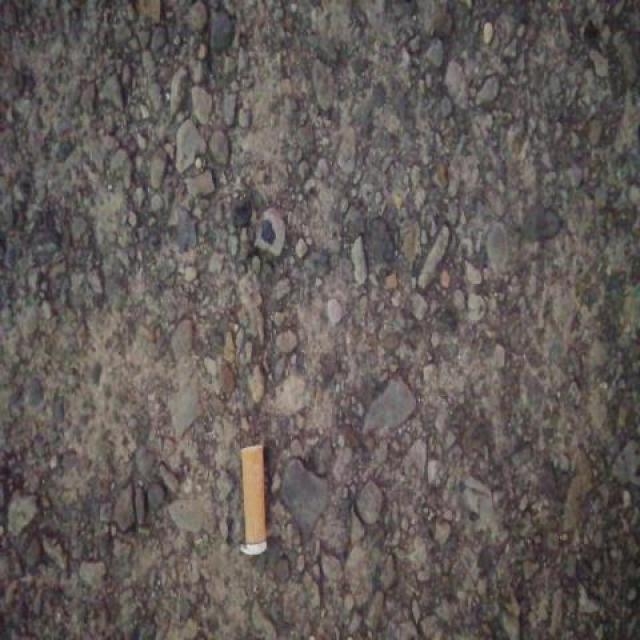non-organic waste: (236, 440, 272, 560)
